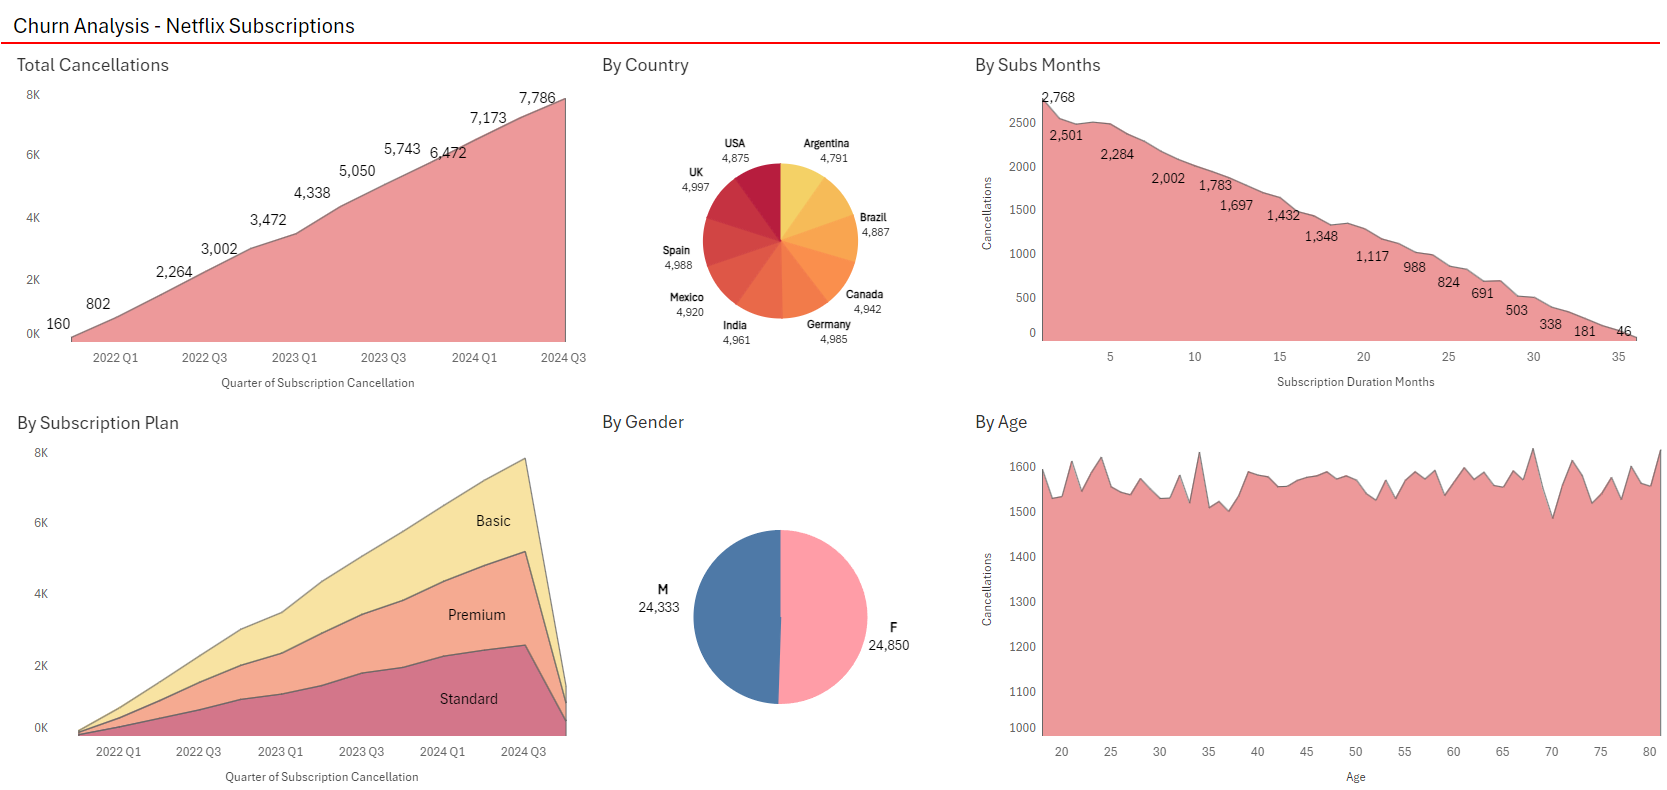

Layout of this report page (visuals, bound fields, positions):
{"tool":"tableau","page":{"name":"Churn - Dashboard","canvas":[1000,1000],"units":"permille","ordinal":0},"visuals":[{"type":"text","box":[4.7,9.3,990.6,45.1]},{"type":"worksheet","title":"Total Cancellations","mark":"Area","rows":["User Id (copy)_259519934877728768"],"cols":["subscription_end_date"],"box":[4.7,54.4,317.7,445.6]},{"type":"worksheet","title":"By Country","mark":"Pie","box":[322.4,54.4,200.1,445]},{"type":"worksheet","title":"By Subs Months","mark":"Area","rows":["User Id (copy)_259519934877728768"],"cols":["subscription_duration_months"],"box":[522.5,54.4,379.2,445]},{"type":"legend","title":"By Subscription Plan","param":"[federated.0hpvcg816rvf5f11zhlsb12sjsxf].[none:subscription_plan:nk]","box":[901.7,54.4,93.6,98.4]},{"type":"legend","title":"By Gender","param":"[federated.0hpvcg816rvf5f11zhlsb12sjsxf].[none:gender:nk]","box":[901.7,152.8,93.6,75.2]},{"type":"legend","title":"By Gender","param":"[federated.0hpvcg816rvf5f11zhlsb12sjsxf].[cnt:User Id (copy)_259519934877728768:","box":[901.7,228,93.6,52.1]},{"type":"legend","title":"By Country","param":"[federated.0hpvcg816rvf5f11zhlsb12sjsxf].[none:country:nk]","box":[901.7,280.1,93.6,260.4]},{"type":"worksheet","title":"By Gender","mark":"Pie","box":[322.4,499.4,200.1,491.4]},{"type":"worksheet","title":"By Age","mark":"Area","rows":["User Id (copy)_259519934877728768"],"cols":["age"],"box":[522.5,499.4,379.2,491.4]},{"type":"worksheet","title":"By Subscription Plan","mark":"Area","rows":["User Id (copy)_259519934877728768"],"cols":["subscription_end_date"],"box":[4.7,500,317.7,490.7]}]}

Visuals, with their boxes on the dashboard's canvas, which has no fixed pixel size, in thousandths of its width and height (x1, y1, x2, y2). These are canvas units, not pixel positions in the 1667x790 screenshot, which may show the page scaled, cropped or inside an application window:
text: {"x1": 5, "y1": 9, "x2": 995, "y2": 54}
"Total Cancellations" worksheet (Area marks): {"x1": 5, "y1": 54, "x2": 322, "y2": 500}
"By Country" worksheet (Pie marks): {"x1": 322, "y1": 54, "x2": 522, "y2": 499}
"By Subs Months" worksheet (Area marks): {"x1": 522, "y1": 54, "x2": 902, "y2": 499}
"By Subscription Plan" legend: {"x1": 902, "y1": 54, "x2": 995, "y2": 153}
"By Gender" legend: {"x1": 902, "y1": 153, "x2": 995, "y2": 228}
"By Gender" legend: {"x1": 902, "y1": 228, "x2": 995, "y2": 280}
"By Country" legend: {"x1": 902, "y1": 280, "x2": 995, "y2": 540}
"By Gender" worksheet (Pie marks): {"x1": 322, "y1": 499, "x2": 522, "y2": 991}
"By Age" worksheet (Area marks): {"x1": 522, "y1": 499, "x2": 902, "y2": 991}
"By Subscription Plan" worksheet (Area marks): {"x1": 5, "y1": 500, "x2": 322, "y2": 991}
